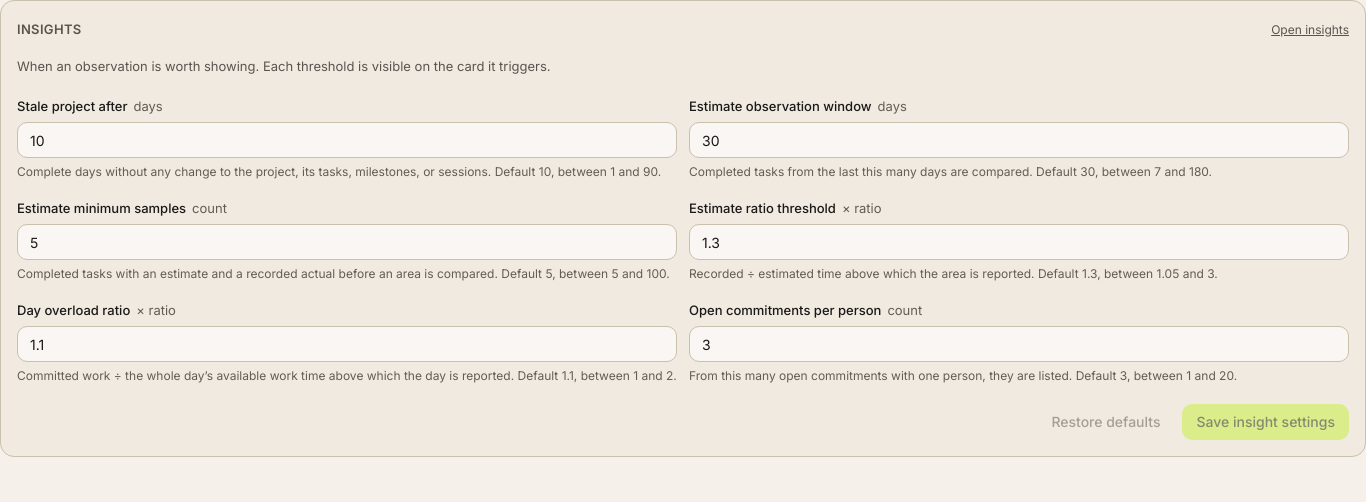
Test case: insight settings › rejects an out-of-bounds threshold visibly and saves a valid one without touching planning
Replace the text in the number field labelled "Stale project afterdays" with "0" at (347,140), box left=17, top=122, right=677, bottom=158
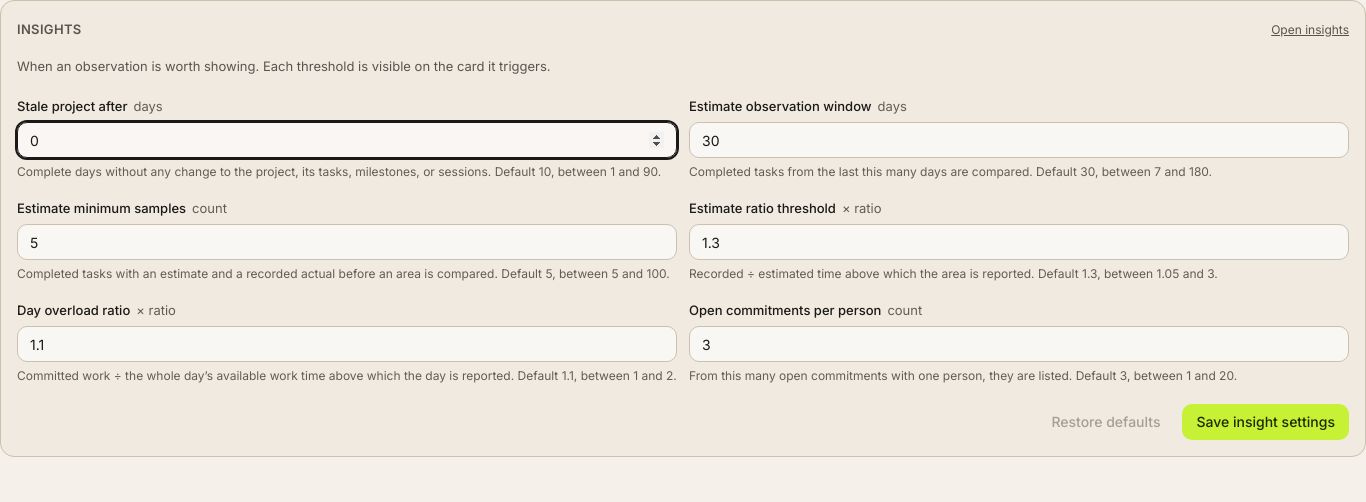
Click the button "Save insight settings" at (1266,422), box left=1182, top=404, right=1349, bottom=440
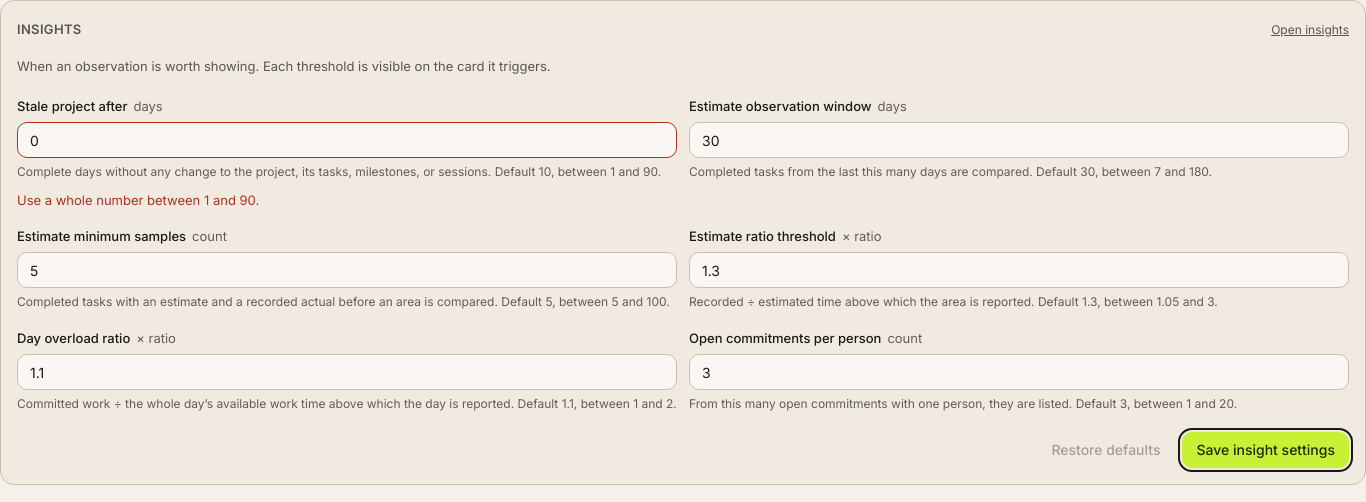
Now the message reads "Use a whole number between 1 and 90.", box left=17, top=192, right=259, bottom=208
Replace the text in the number field labelled "Stale project afterdays" with "14" at (347,140), box left=17, top=122, right=677, bottom=158
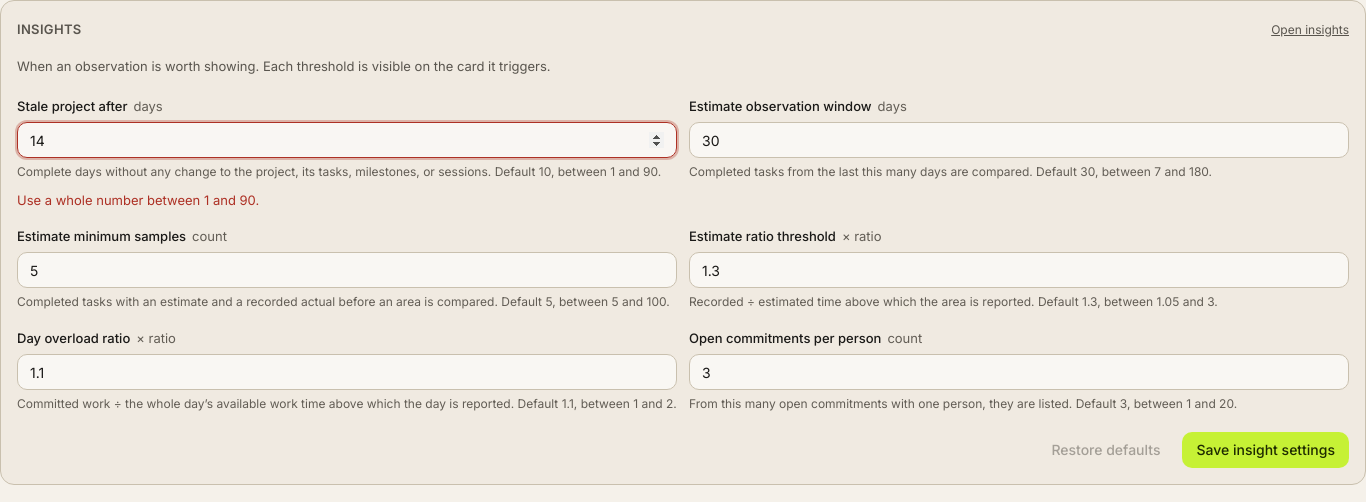
Replace the text in the number field labelled "Estimate ratio threshold× ratio" with "1.5" at (1019,270), box left=689, top=252, right=1349, bottom=288
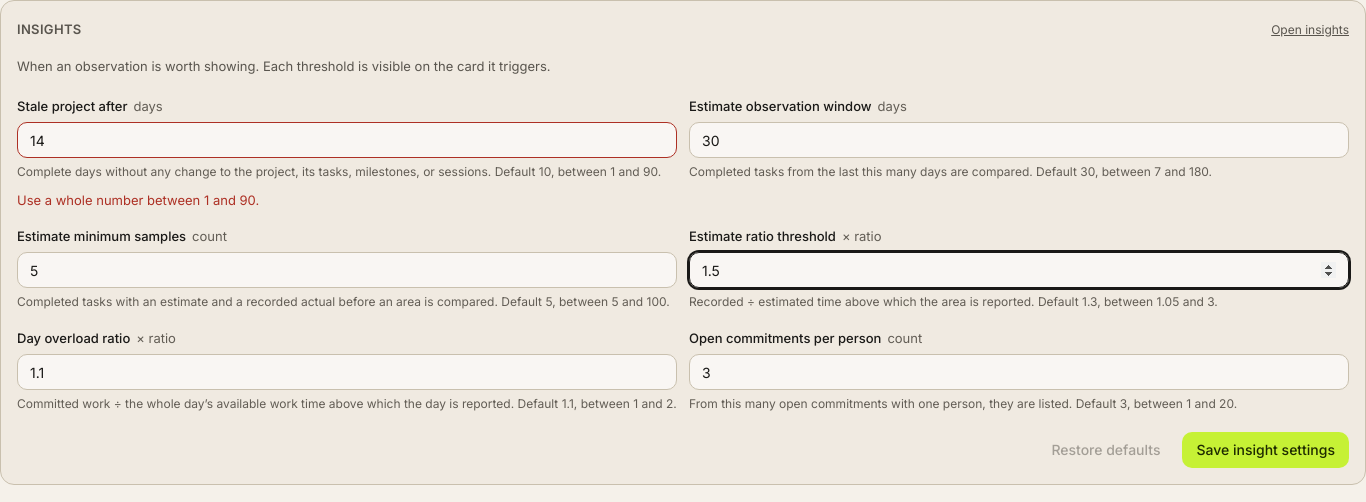
Click the button "Save insight settings" at (1266,450), box left=1182, top=432, right=1349, bottom=468
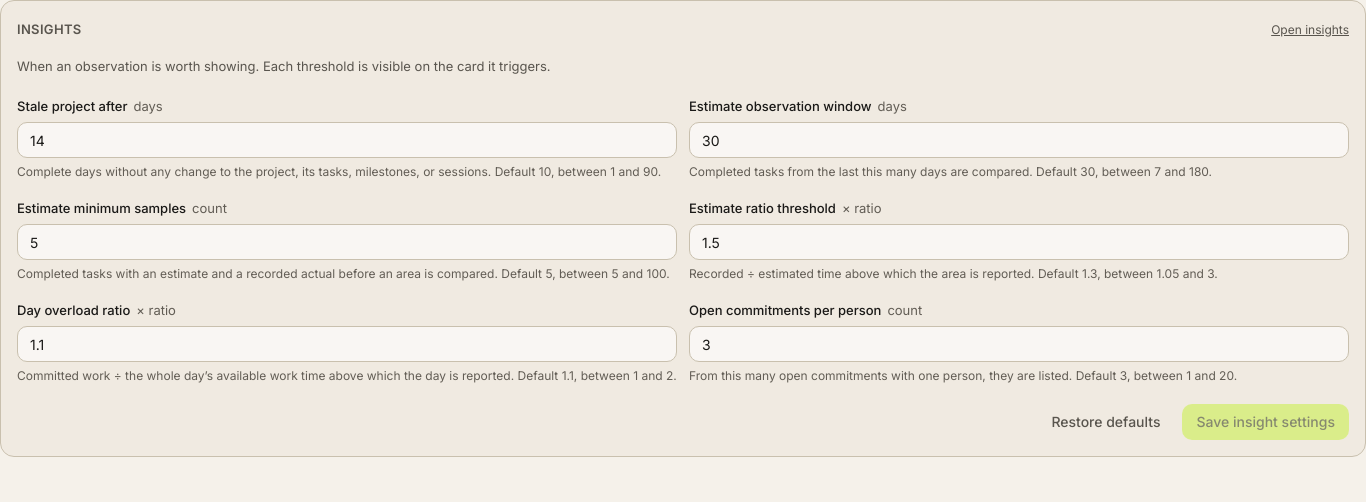
# Restore defaults touches only the insight group.
Click the button "Restore defaults" at (1106,422), box left=1037, top=404, right=1174, bottom=440
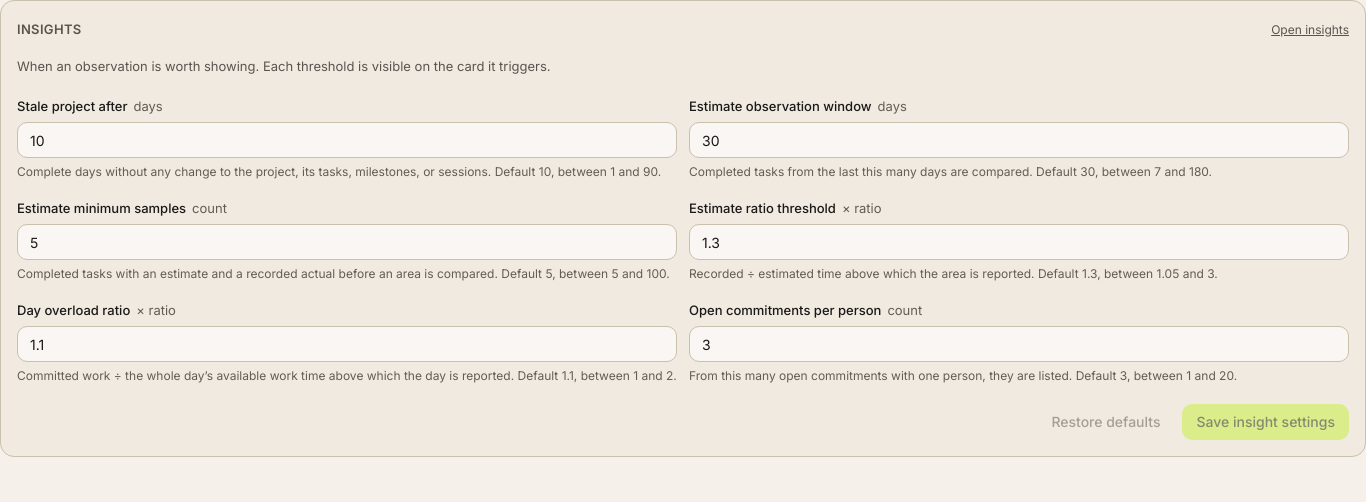
Now the button "Restore defaults" is disabled, box left=1037, top=404, right=1174, bottom=440
